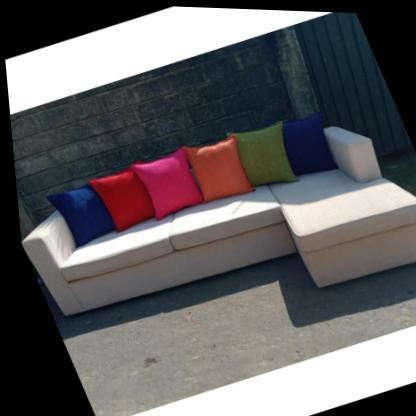Sofa: (5, 74, 416, 381)
